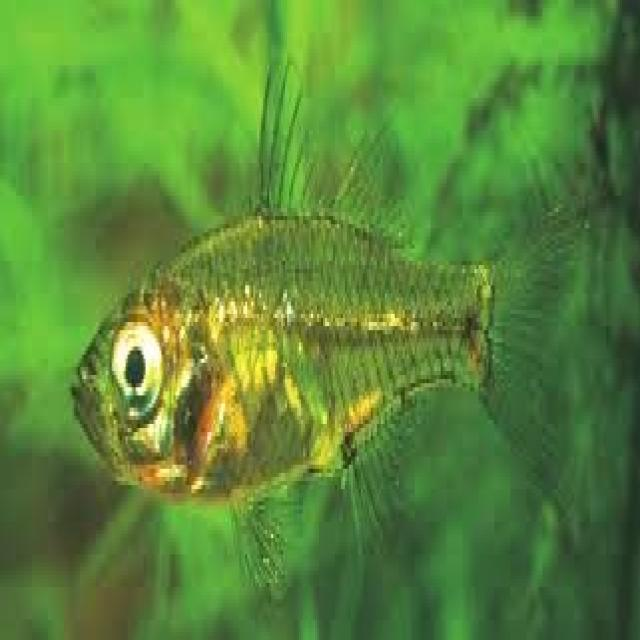Glass-Perchlet: (19, 0, 610, 625)
